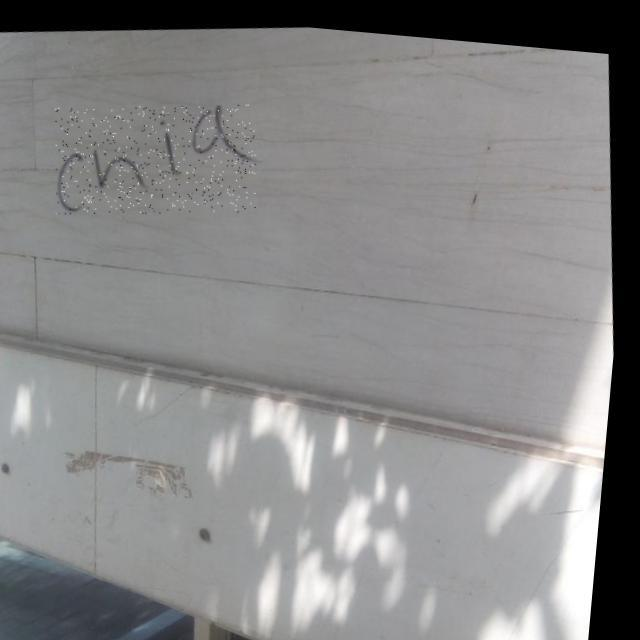-: (49, 85, 268, 227)
